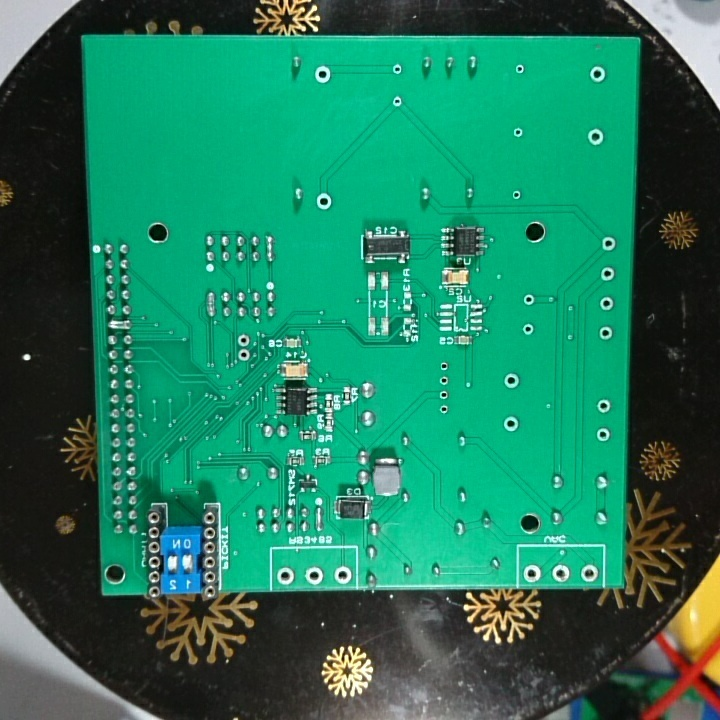F: (585, 63, 611, 85), (584, 125, 607, 149), (520, 562, 543, 585), (549, 561, 572, 584), (579, 562, 600, 587), (332, 564, 354, 586), (303, 564, 324, 587), (275, 564, 296, 587), (313, 63, 333, 86), (314, 192, 335, 213), (502, 372, 523, 392), (597, 295, 619, 314), (596, 264, 617, 283), (501, 414, 520, 435), (600, 235, 619, 255), (597, 323, 616, 343), (595, 426, 613, 446), (596, 396, 612, 416), (522, 290, 536, 312), (234, 332, 253, 348), (236, 346, 250, 366), (520, 323, 536, 340), (390, 60, 404, 78), (509, 188, 524, 204), (437, 373, 453, 387), (436, 386, 450, 402), (437, 359, 451, 374), (436, 401, 450, 416), (390, 95, 406, 108), (511, 125, 524, 140), (513, 61, 525, 77)
P: (262, 232, 278, 266), (105, 316, 133, 332), (204, 290, 218, 320), (312, 505, 326, 532)
